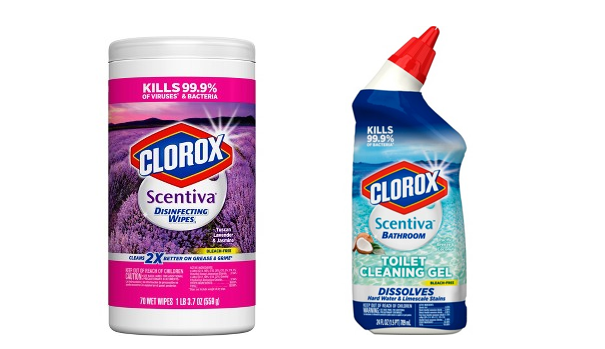Wipes: (102, 30, 262, 340)
